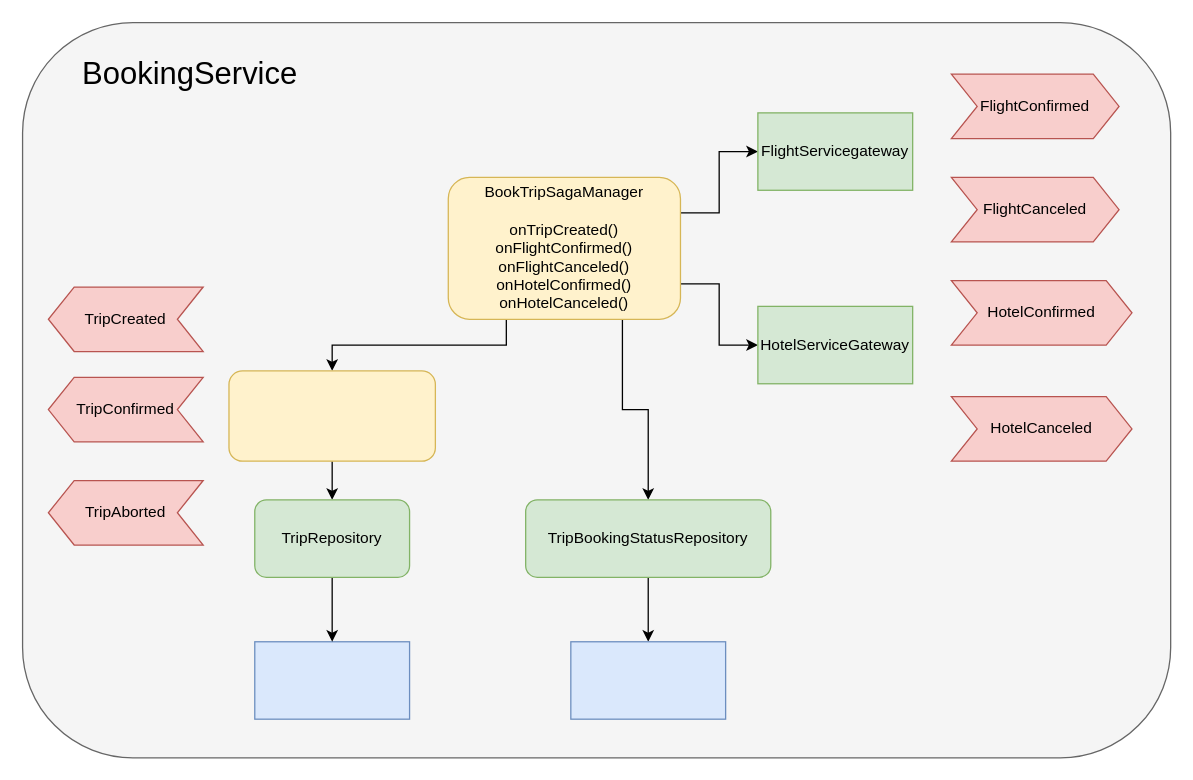
This 1193x780 diagram has some shape labels left out. The shapes that lost their labels are listed below. From the top down, each one's centre as x and y in pixels, then its label:
(x=331, y=415): TripService createTrip() confirmTrip() abortTrip()
(x=331, y=679): Trip
(x=648, y=679): TripBookingStatus
